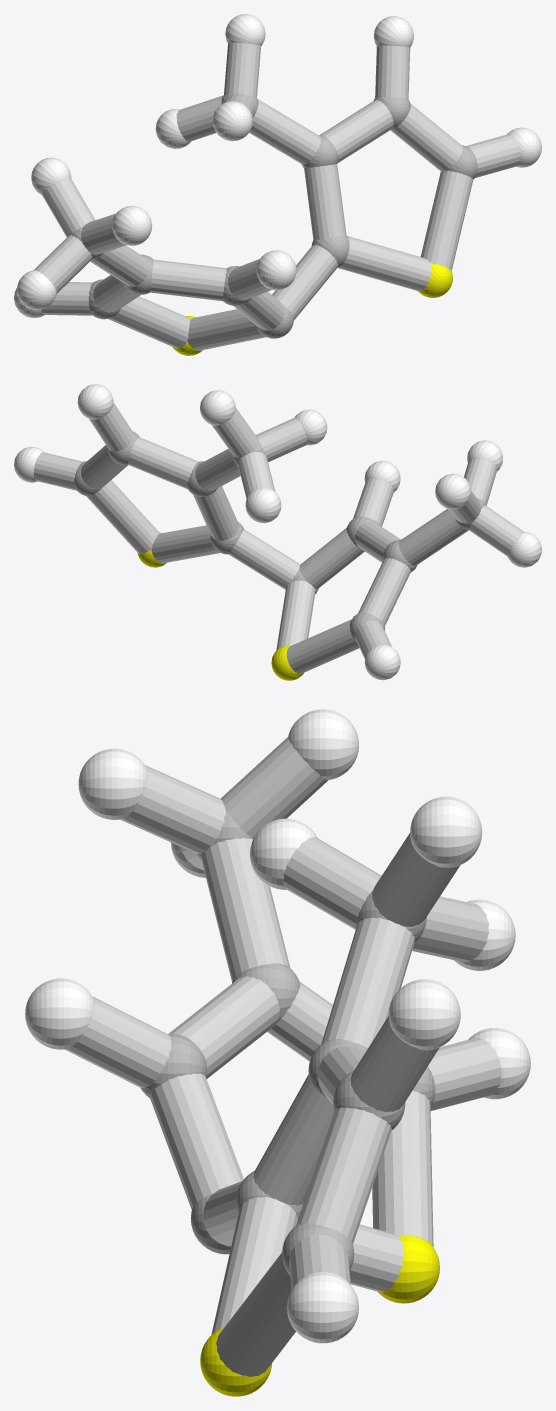
Rendered from Methylthiophene_Phi_60_Theta_110_Methylthiophene.glb.
3 renders of one model, top to bottom at view 1: azimuth 30°, elevation 25°; view 2: azimuth 150°, elevation 25°; view 3: azimuth 270°, elevation 25°, orthographic. The views are drawn at different scales.
Parts seen in each view (by area): view 1: grp7965, grp3621, grp1, grp7241; view 2: grp7965, grp3621, grp1, grp7241; view 3: grp7965, grp3621, grp1, grp7241.
Boxes of the visible parts, <box> form: grp7965: <box>33,42,521,350</box>; grp3621: <box>14,14,541,317</box>; grp1: <box>71,94,477,338</box>; grp7241: <box>172,263,452,355</box>; grp7965: <box>33,403,523,673</box>; grp3621: <box>14,384,541,680</box>; grp1: <box>74,431,484,642</box>; grp7241: <box>137,532,303,680</box>; grp7965: <box>65,737,501,1376</box>; grp3621: <box>25,709,530,1343</box>; grp1: <box>140,811,435,1275</box>; grp7241: <box>200,1235,439,1396</box>.
Size of the model in its own units: 9.5 by 5.14 by 4.21.
